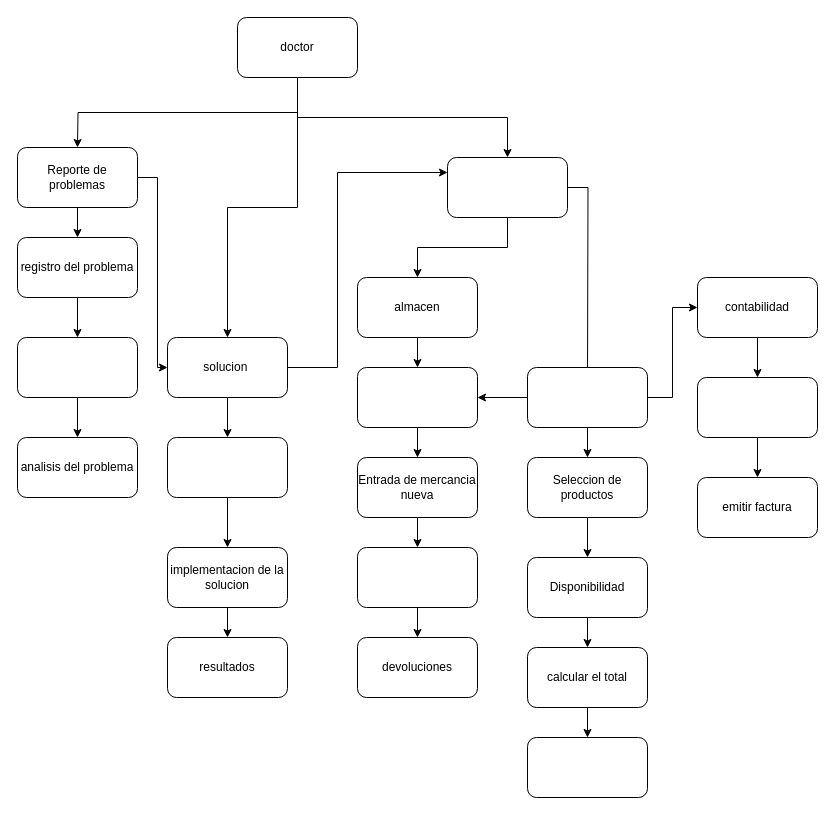
This 835x815 diagram has some shape labels left out. Each missing label, with the centre of its shape:
"actualizar inventario" belongs at pixel 417 397.
"clasificacion del problema" belongs at pixel 77 367.
"cliente" belongs at pixel 507 187.
"guardar pedido" belongs at pixel 587 767.
"monto total de pedido" belongs at pixel 757 407.
"planificacion de la solucion" belongs at pixel 227 467.
"Registrar pedido" belongs at pixel 587 397.
"salida de mercancia" belongs at pixel 417 577.
